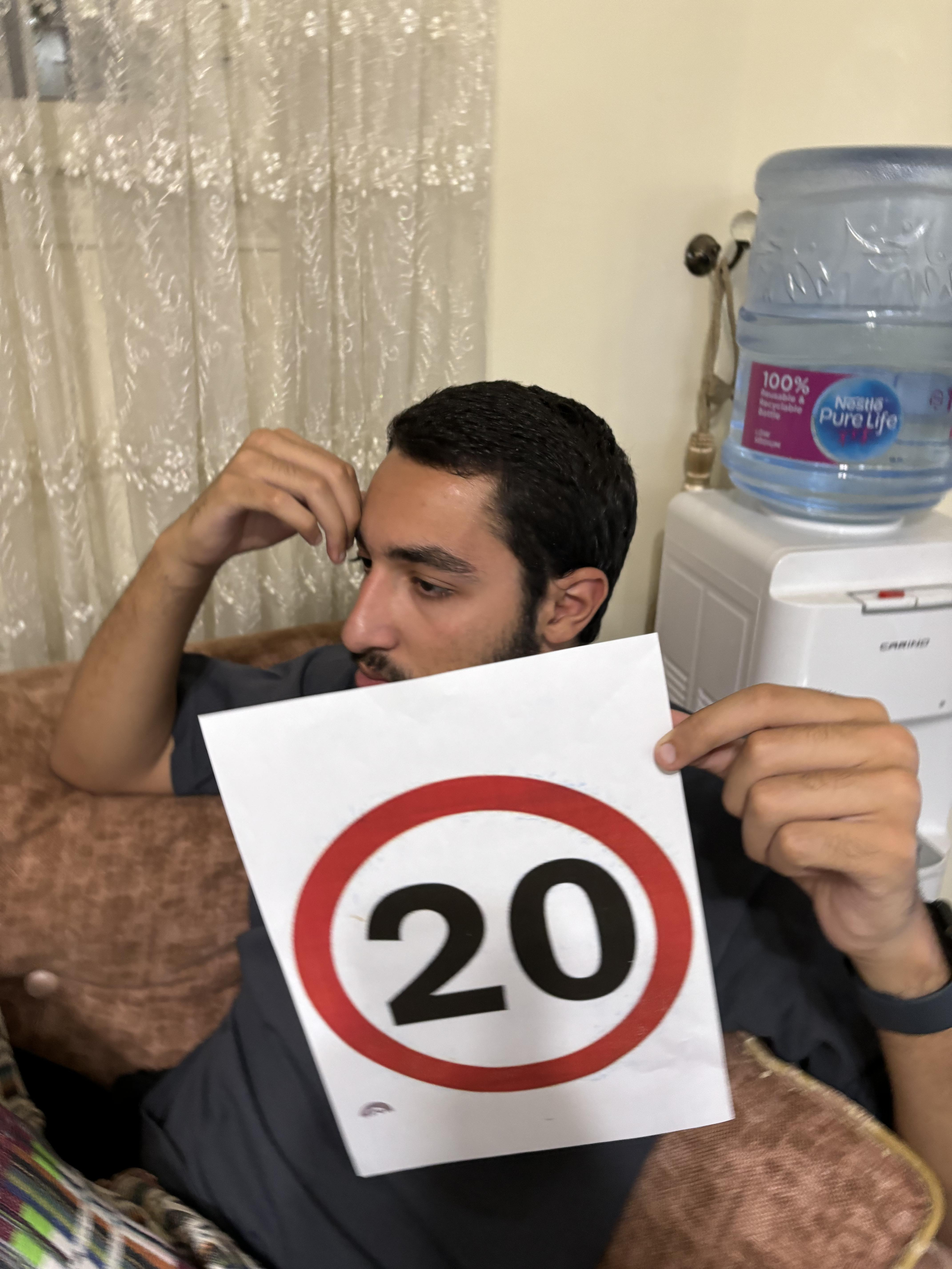20-Speed: (283, 769, 701, 1091)
